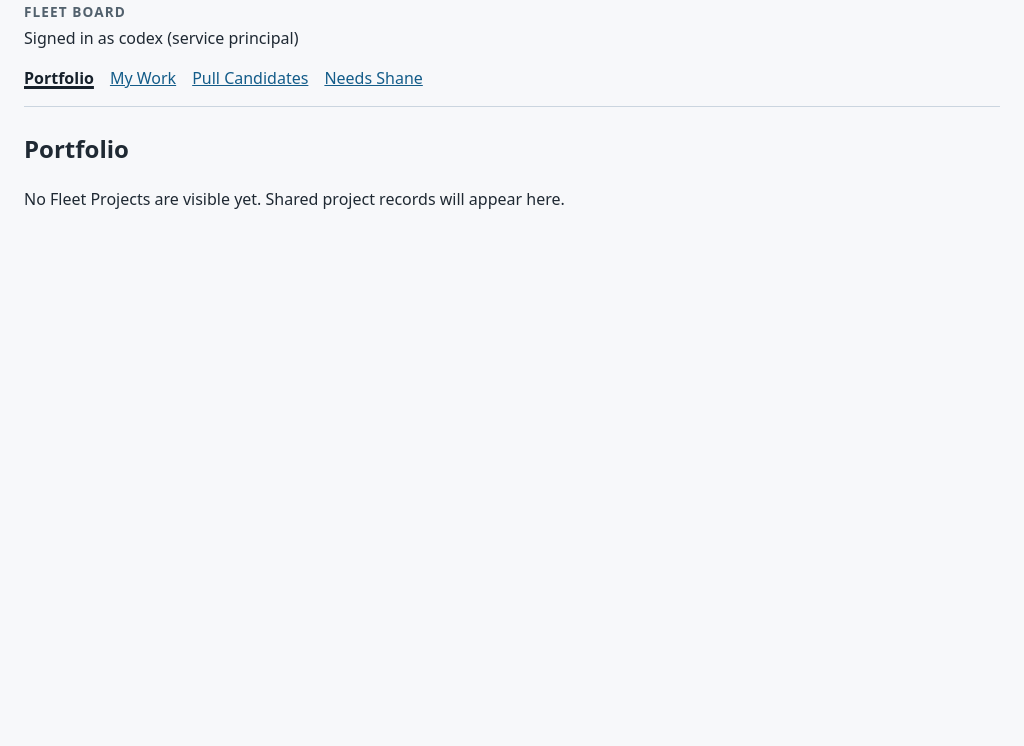
Test: Work Request lifecycle on the Board › converts an optional local invitation deadline to the submitted UTC timestamp
Expected: the text "Signed in as codex (service principal)" is shown, [24, 27, 298, 49]
Click the link "My Work" at (143, 78), box [110, 66, 176, 90]
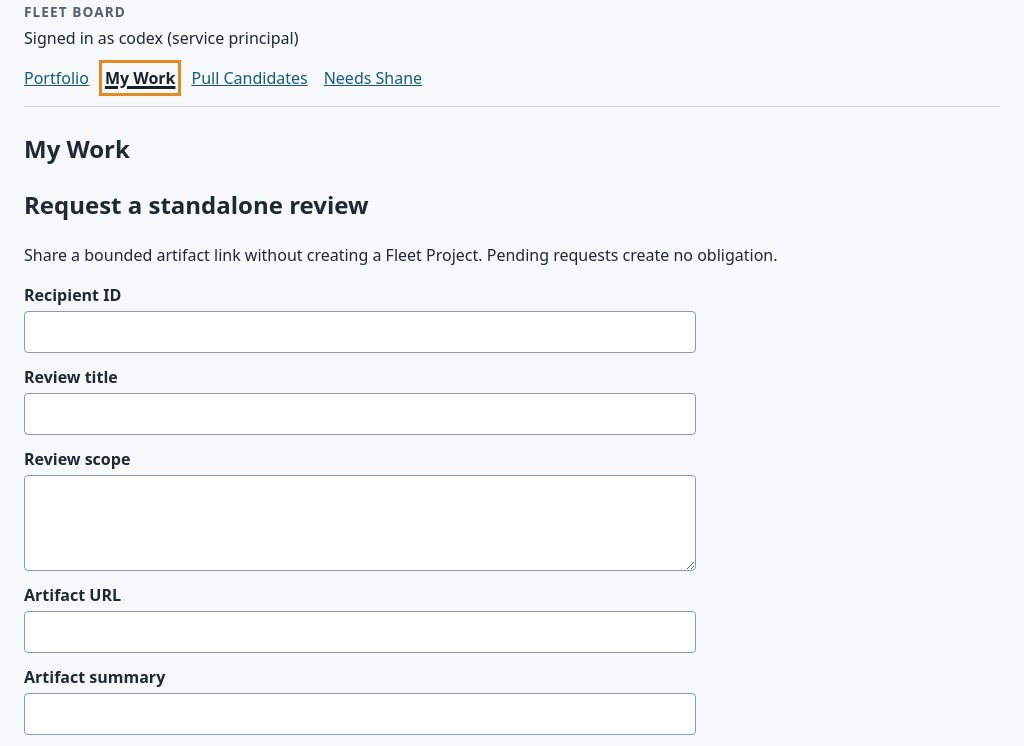
Type "claude" into the field labelled "Recipient ID" at (360, 332), box [24, 311, 696, 353]
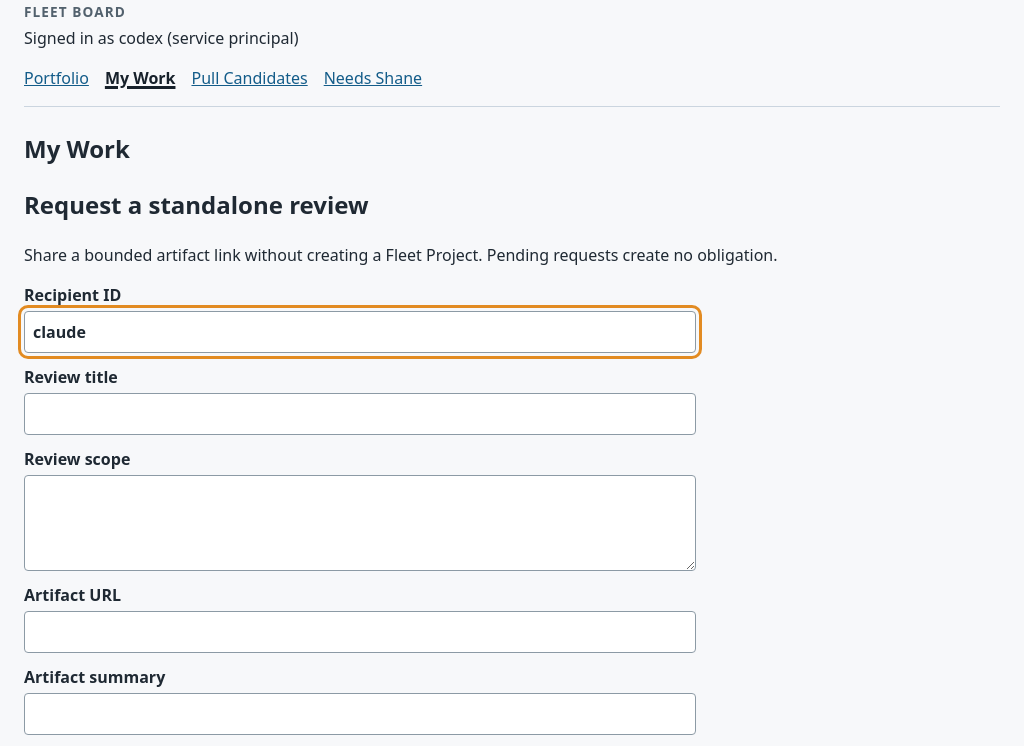
Type "Dated invitation" into the field labelled "Review title" at (360, 414), box [24, 393, 696, 435]
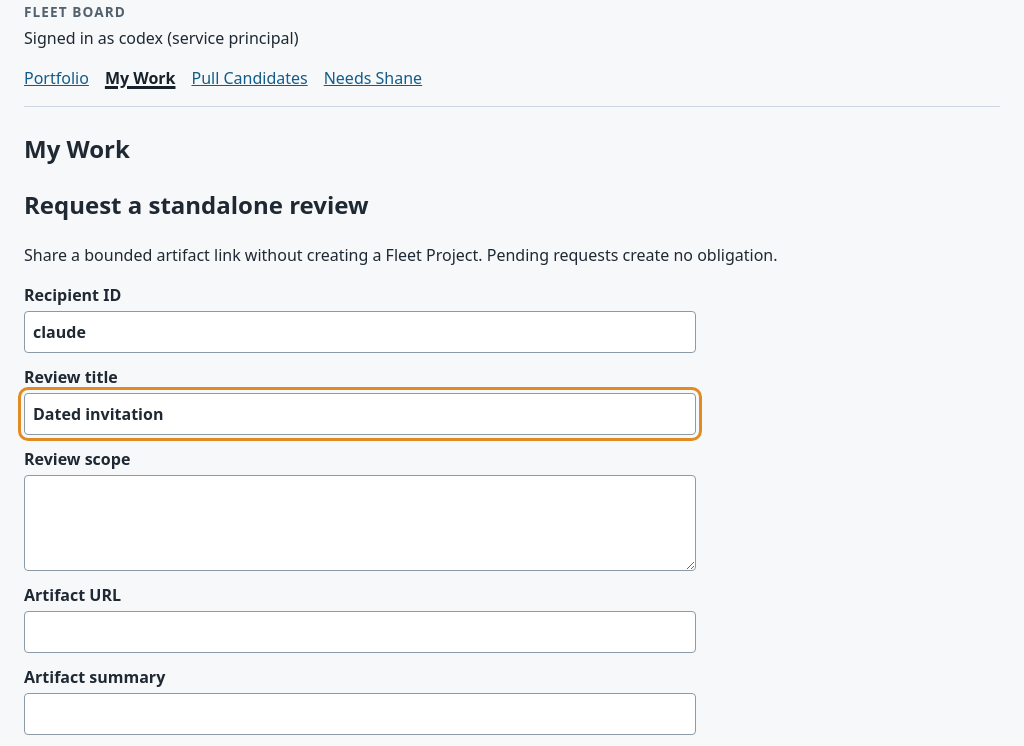
Type "Review if still timely" into the text box labelled "Review scope" at (360, 523), box [24, 475, 696, 571]
(page scrolled)
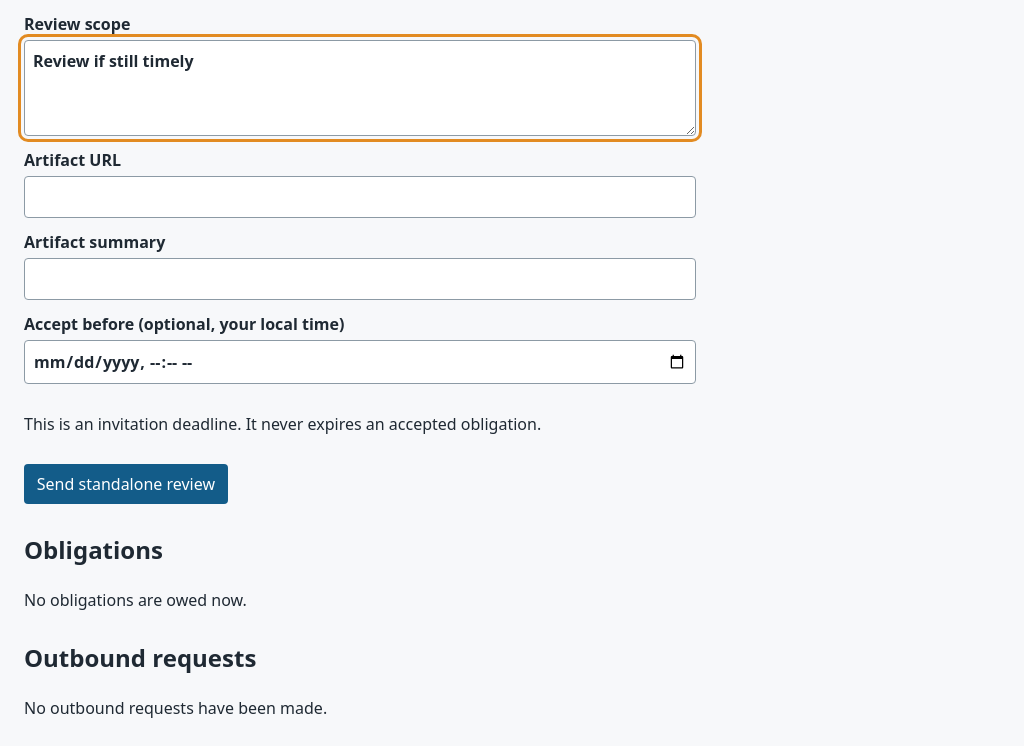
Type "2030-01-02T15:30" into the field labelled "Accept before (optional, your local time)" at (360, 362), box [24, 340, 696, 384]
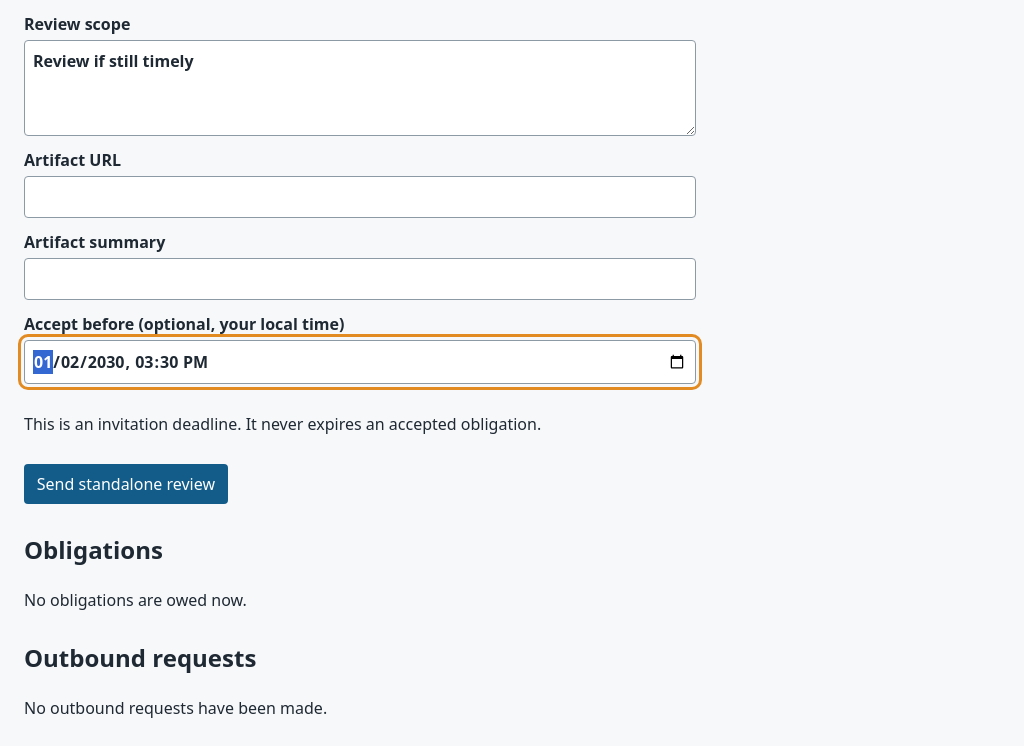
Click the button "Send standalone review" at (126, 484), box [24, 464, 228, 504]
(page scrolled)
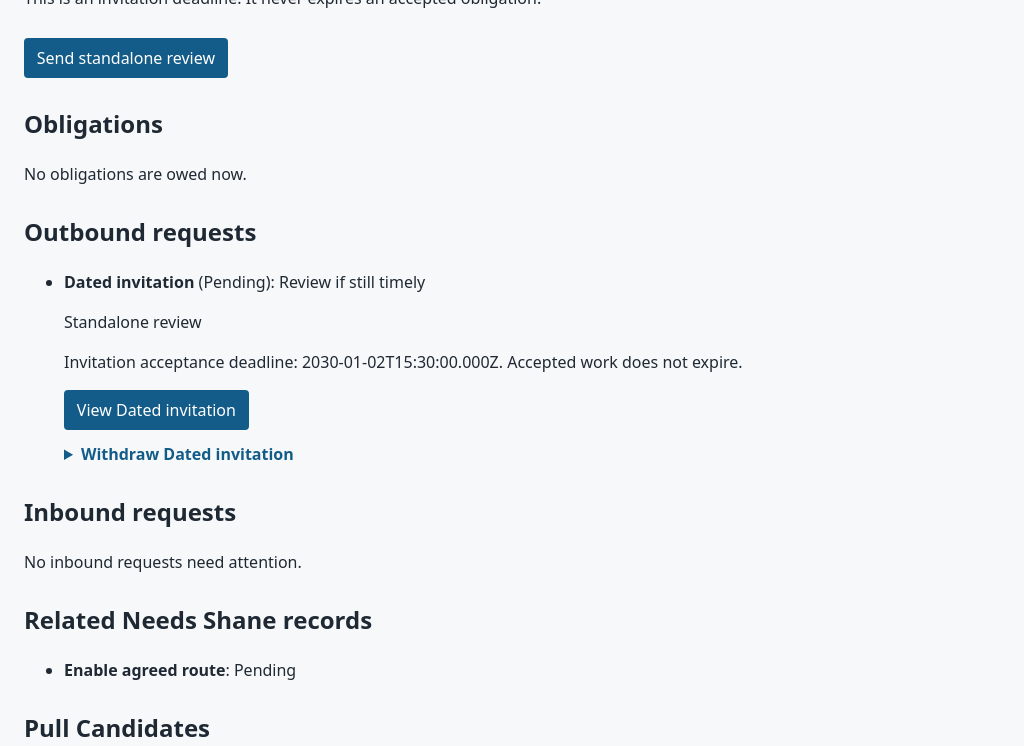
Result: the text "Dated invitation" is shown at [64, 271, 194, 293]
